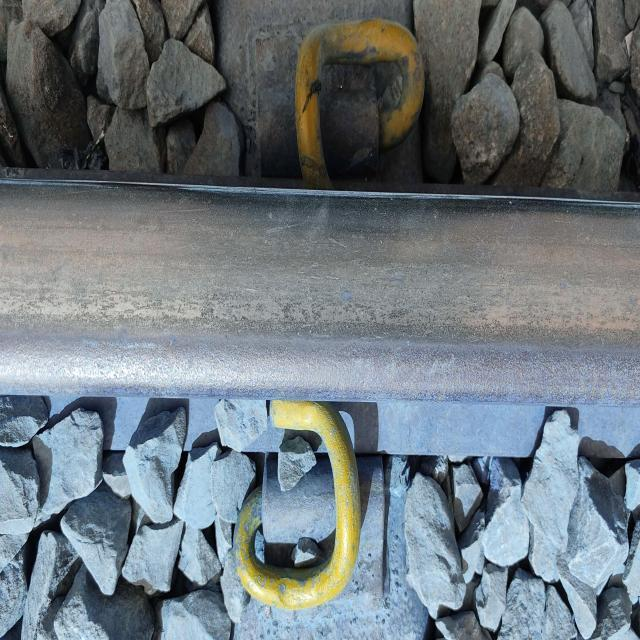Good Fasteners: (216, 0, 424, 189), (233, 400, 385, 638)
